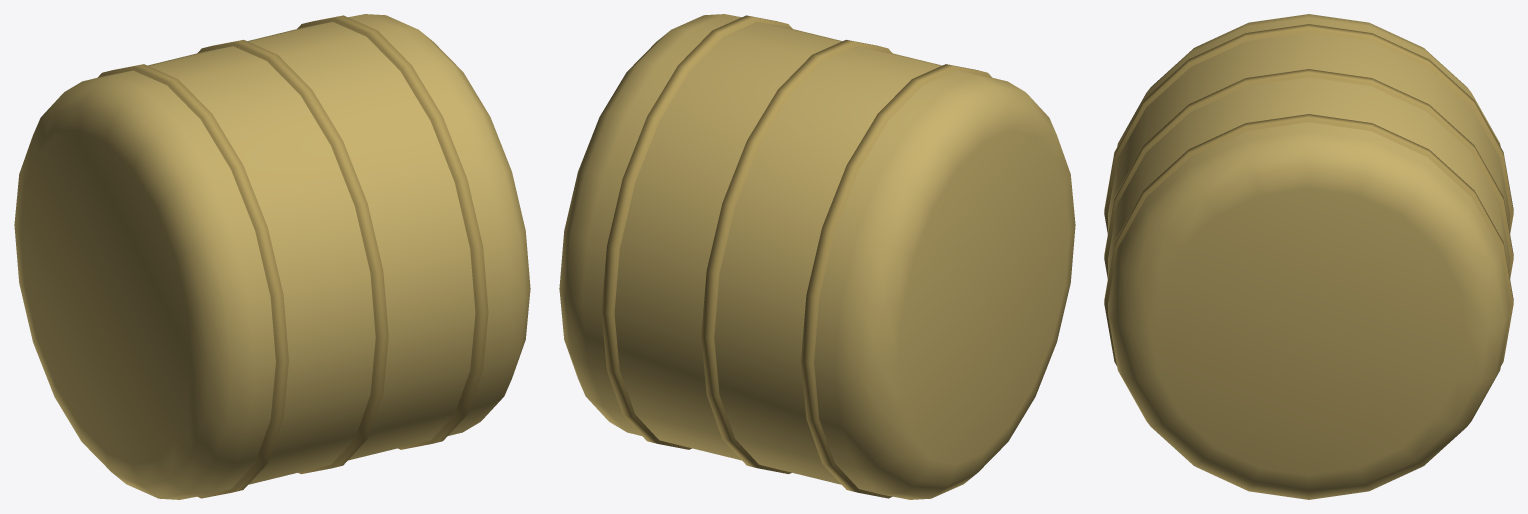
File: hay.glb
The picture shows the model from 3 angles, left to right: view 1: azimuth 30°, elevation 25°; view 2: azimuth 150°, elevation 25°; view 3: azimuth 270°, elevation 25°; orthographic projection. The views are drawn at different scales.
Visible parts, largest first — view 1: hay; view 2: hay; view 3: hay.
Part boxes in pixels (<box>): hay: <box>14,14,530,499</box>; hay: <box>559,14,1075,499</box>; hay: <box>1104,14,1513,499</box>.
Bounding box in the file's own units: 1.5 × 1.73 × 1.73.
